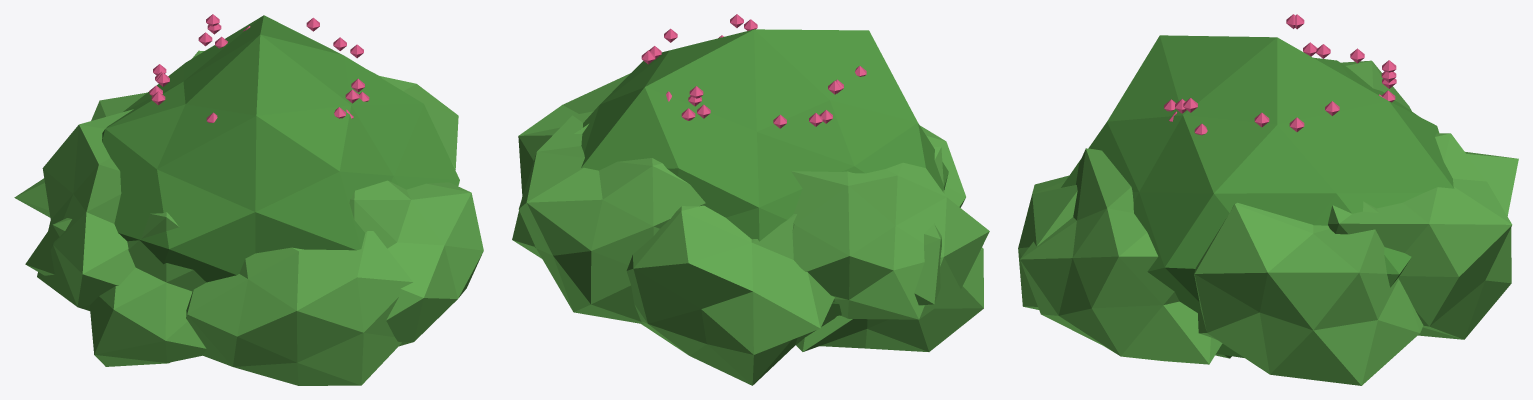
Rendered from flowers.glb.
3 views of the same model, side by side, from view 1: azimuth 30°, elevation 25°; view 2: azimuth 150°, elevation 25°; view 3: azimuth 270°, elevation 25° (orthographic). The views are drawn at different scales.
Visible parts, largest first — view 1: flowers; view 2: flowers; view 3: flowers.
Part boxes in pixels (x1,y1,x2,y2): flowers: (14,14,483,385); flowers: (512,14,989,385); flowers: (1018,14,1518,385).
Size of the model in its own units: 0.7222 by 0.5025 by 0.7154.
